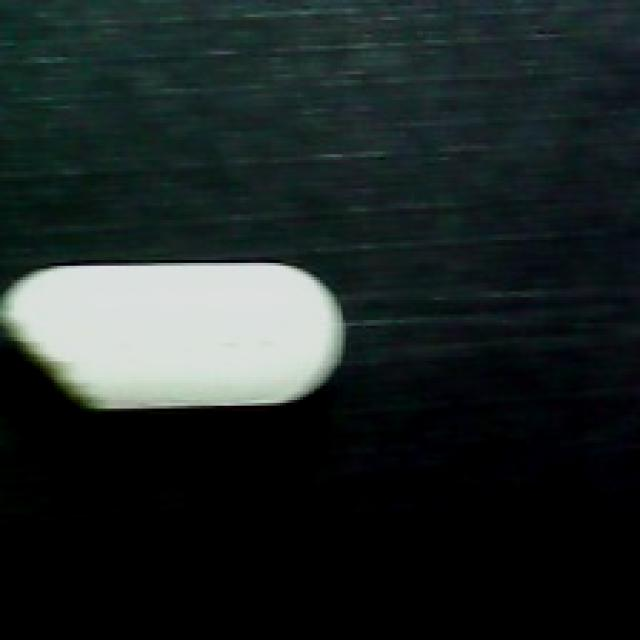defected: (0, 249, 354, 420)
